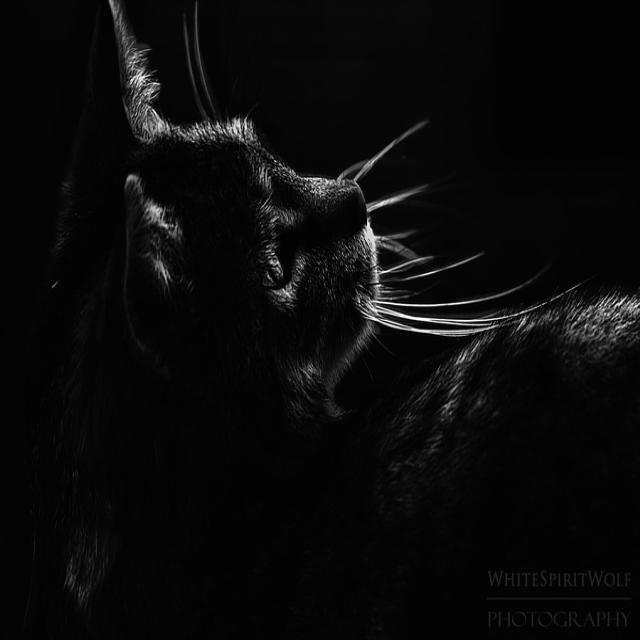Cat: (20, 0, 635, 638)
